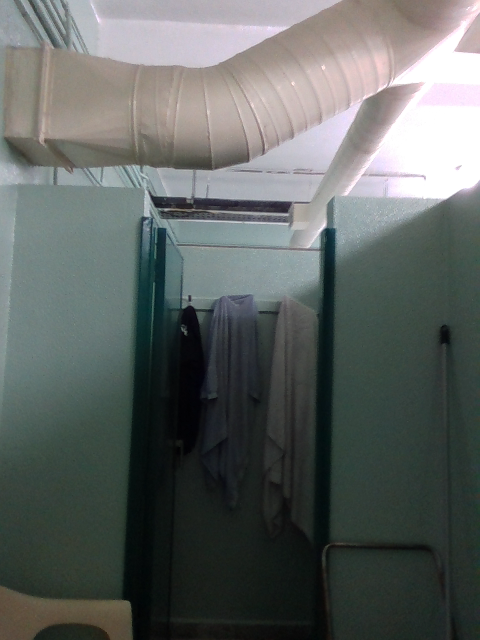open: (126, 223, 171, 639)
